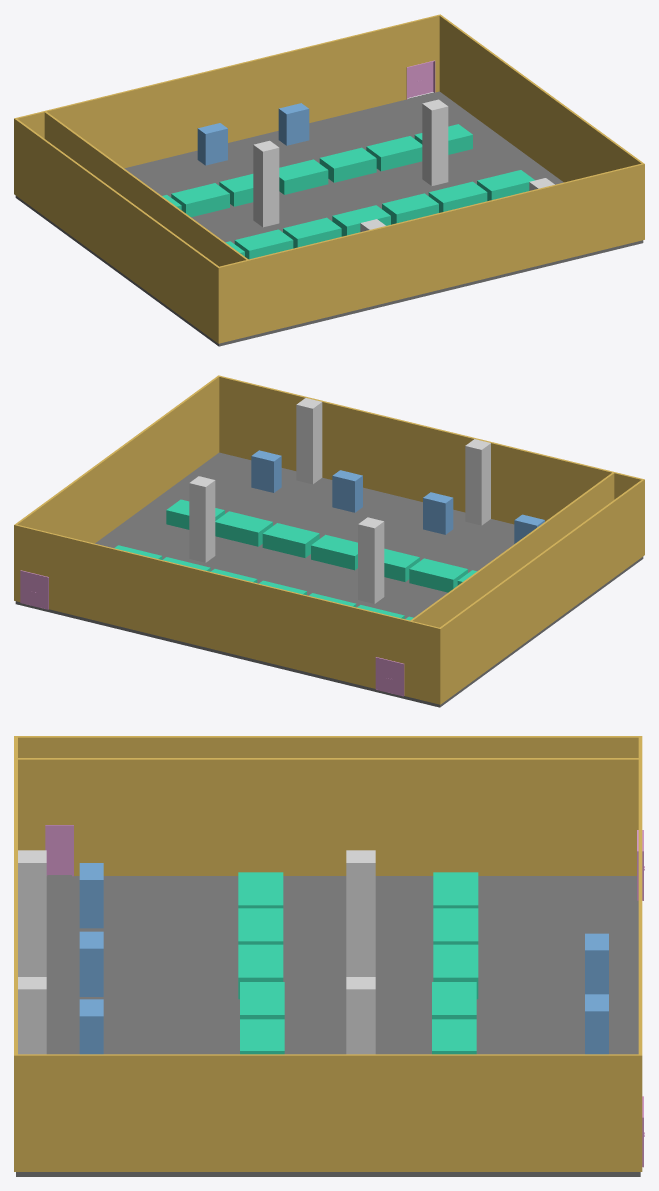
The model's file is LiquidHall.glb.
The picture shows the model from 3 angles, top to bottom: view 1: azimuth 30°, elevation 25°; view 2: azimuth 150°, elevation 25°; view 3: azimuth 270°, elevation 25°; orthographic projection. The views are drawn at different scales.
Visible parts, largest first — view 1: 標準壁 PC - 150 mm [140621], 標準壁 内壁 - 135 mm 間仕切り(2時間) [141911], 床 現場打ちコンクリート 225 mm [202686], 標準壁 内壁 - 135 mm 間仕切り(2時間) [143327], 一般モデル 1 一般モデル 1 [211963], 標準壁 内壁 - 135 mm 間仕切り(2時間) [142879], 標準壁 内壁 - 135 mm 間仕切り(2時間) [143040], 一般モデル 2 一般モデル 2 [212556], 角柱 1100 x 1100mm [140119], 角柱 1100 x 1100mm [140123], TD_ドア_両開き戸 SD-207(S_1800x2000-R-01-01) [202659], 床 現場打ちコンクリート 225 mm [203404]; view 2: 標準壁 内壁 - 135 mm 間仕切り(2時間) [141911], 床 現場打ちコンクリート 225 mm [202686], 標準壁 PC - 150 mm [140621], 標準壁 内壁 - 135 mm 間仕切り(2時間) [143327], 標準壁 内壁 - 135 mm 間仕切り(2時間) [142879], 一般モデル 1 一般モデル 1 [211963], 標準壁 内壁 - 135 mm 間仕切り(2時間) [143040], 一般モデル 2 一般モデル 2 [212556], 角柱 1100 x 1100mm [140123], 角柱 1100 x 1100mm [140119], 角柱 1100 x 1100mm [140184], 角柱 1100 x 1100mm [140182] (+3 smaller); view 3: 床 現場打ちコンクリート 225 mm [202686], 標準壁 内壁 - 135 mm 間仕切り(2時間) [142879], 標準壁 内壁 - 135 mm 間仕切り(2時間) [143040], 一般モデル 1 一般モデル 1 [211963], 標準壁 内壁 - 135 mm 間仕切り(2時間) [143327], 一般モデル 2 一般モデル 2 [212556], 角柱 1100 x 1100mm [140119], 角柱 1100 x 1100mm [140182], 角柱 1100 x 1100mm [140123], 角柱 1100 x 1100mm [140184], 標準壁 PC - 150 mm [140621], 標準壁 内壁 - 135 mm 間仕切り(2時間) [141911] (+1 smaller).
Boxes of the visible parts, box(x1,y1,x2,y2) form: 標準壁 PC - 150 mm [140621]: box(217, 163, 644, 343); 標準壁 内壁 - 135 mm 間仕切り(2時間) [141911]: box(16, 15, 439, 168); 床 現場打ちコンクリート 225 mm [202686]: box(124, 91, 643, 339); 標準壁 内壁 - 135 mm 間仕切り(2時間) [143327]: box(14, 118, 218, 342); 一般モデル 1 一般モデル 1 [211963]: box(162, 124, 534, 259); 標準壁 内壁 - 135 mm 間仕切り(2時間) [142879]: box(438, 14, 642, 182); 標準壁 内壁 - 135 mm 間仕切り(2時間) [143040]: box(44, 111, 248, 266); 一般モデル 2 一般モデル 2 [212556]: box(197, 103, 309, 165); 角柱 1100 x 1100mm [140119]: box(253, 140, 279, 227); 角柱 1100 x 1100mm [140123]: box(422, 99, 448, 185); TD_ドア_両開き戸 SD-207(S_1800x2000-R-01-01) [202659]: box(406, 60, 435, 99); 床 現場打ちコンクリート 225 mm [203404]: box(15, 195, 248, 346); 標準壁 内壁 - 135 mm 間仕切り(2時間) [141911]: box(16, 524, 438, 703); 床 現場打ちコンクリート 225 mm [202686]: box(15, 452, 514, 700); 標準壁 PC - 150 mm [140621]: box(217, 375, 644, 555); 標準壁 内壁 - 135 mm 間仕切り(2時間) [143327]: box(438, 480, 643, 704); 標準壁 内壁 - 135 mm 間仕切り(2時間) [142879]: box(14, 376, 219, 600); 一般モデル 1 一般モデル 1 [211963]: box(114, 499, 476, 620); 標準壁 内壁 - 135 mm 間仕切り(2時間) [143040]: box(410, 472, 614, 627); 一般モデル 2 一般モデル 2 [212556]: box(251, 450, 544, 543); 角柱 1100 x 1100mm [140123]: box(189, 476, 215, 562); 角柱 1100 x 1100mm [140119]: box(358, 517, 384, 603); 角柱 1100 x 1100mm [140184]: box(296, 398, 322, 484); 角柱 1100 x 1100mm [140182]: box(465, 439, 490, 525); 床 現場打ちコンクリート 225 mm [202686]: box(16, 875, 640, 1176); 標準壁 内壁 - 135 mm 間仕切り(2時間) [142879]: box(18, 1054, 642, 1171); 標準壁 内壁 - 135 mm 間仕切り(2時間) [143040]: box(18, 758, 638, 875); 一般モデル 1 一般モデル 1 [211963]: box(238, 872, 478, 1054); 標準壁 内壁 - 135 mm 間仕切り(2時間) [143327]: box(18, 736, 642, 757); 一般モデル 2 一般モデル 2 [212556]: box(79, 863, 608, 1054); 角柱 1100 x 1100mm [140119]: box(346, 850, 375, 976); 角柱 1100 x 1100mm [140182]: box(18, 850, 46, 976); 角柱 1100 x 1100mm [140123]: box(346, 977, 375, 1054); 角柱 1100 x 1100mm [140184]: box(18, 977, 46, 1054); 標準壁 PC - 150 mm [140621]: box(14, 736, 17, 1171); 標準壁 内壁 - 135 mm 間仕切り(2時間) [141911]: box(638, 737, 642, 1054).
Bounding box in the file's own units: 28.29 × 5.03 × 23.59.
